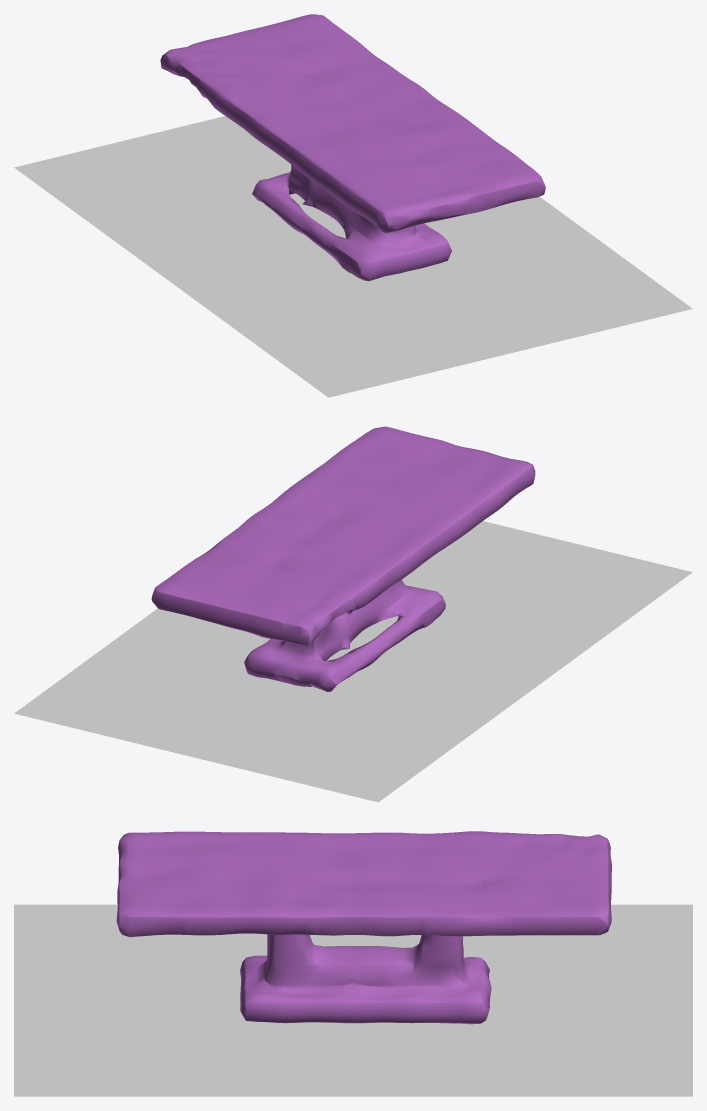
File: coffee table.glb
3 views of the same model, one above another, from view 1: azimuth 30°, elevation 25°; view 2: azimuth 150°, elevation 25°; view 3: azimuth 270°, elevation 25° (orthographic). The views are drawn at different scales.
Parts seen in each view (by area): view 1: world, table_11_2; view 2: world, table_11_2; view 3: world, table_11_2.
Part boxes in pixels (x1,y1,x2,y2): world: (14, 116, 692, 397); table_11_2: (160, 14, 545, 281); world: (14, 521, 692, 802); table_11_2: (151, 426, 535, 691); world: (14, 904, 692, 1096); table_11_2: (116, 831, 611, 1024).
Size of the model in its own units: 0.7265 by 0.2327 by 1.09.
